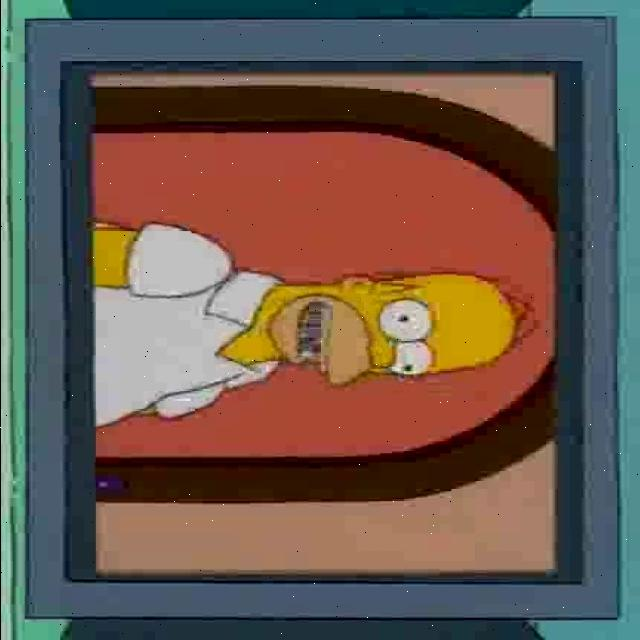Homer Simpson: (253, 274, 529, 390)
